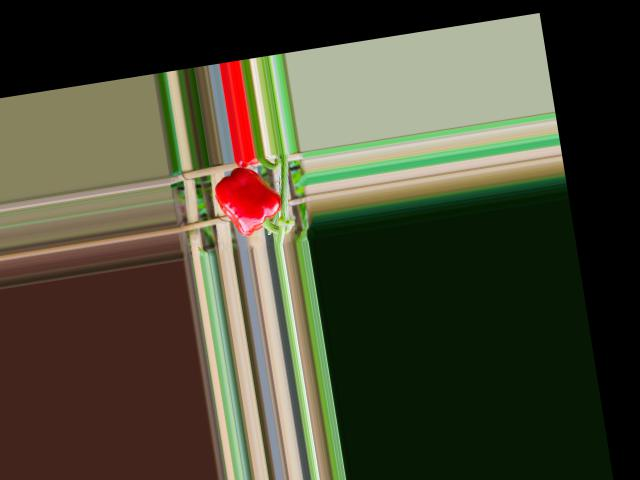bell_pepper: (207, 162, 290, 240)
